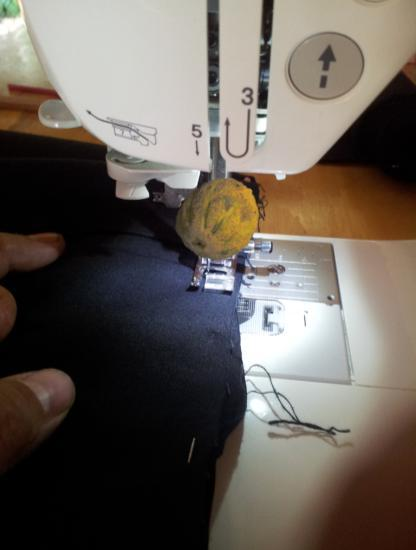Cantaloupe: (176, 176, 264, 264)
